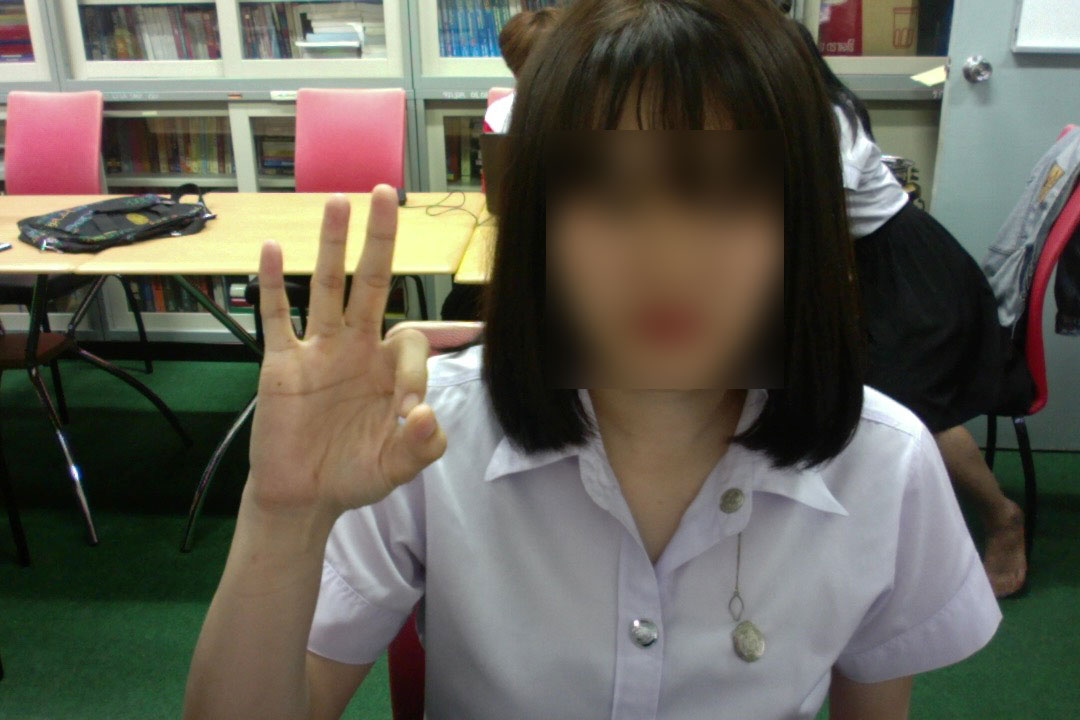for: (241, 168, 453, 522)
